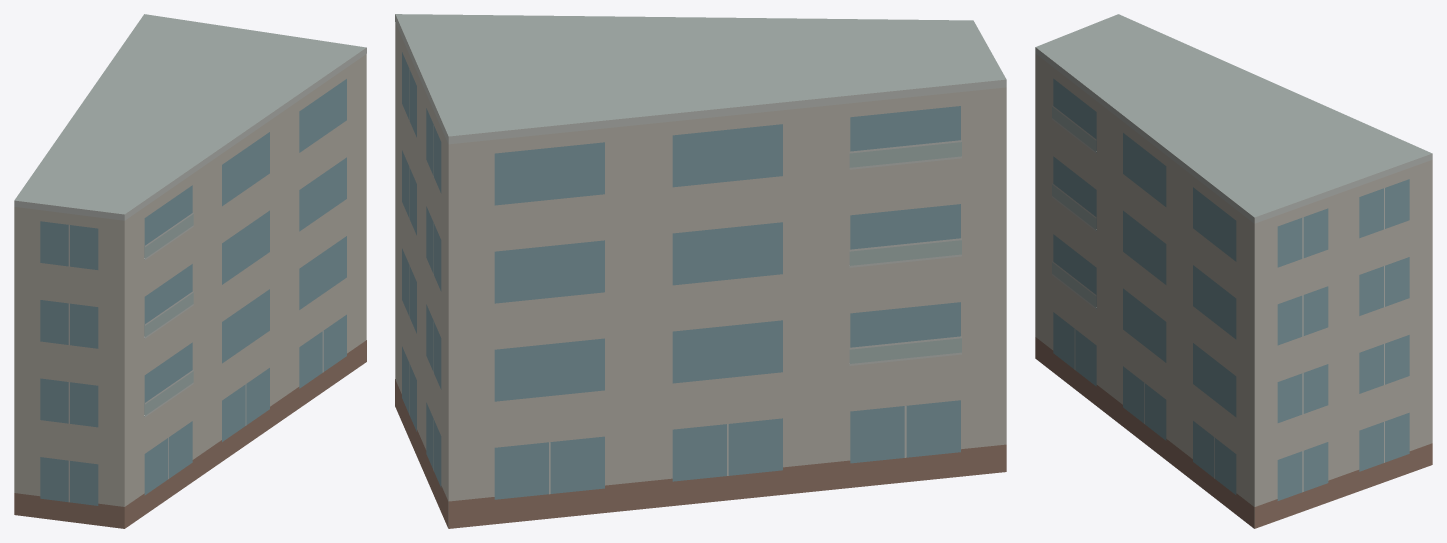
Rendered from residential-461b8c0b-ba62-4fc1-b369-4df7bfdebae0.glb.
The picture shows the model from 3 angles, left to right: view 1: azimuth 30°, elevation 25°; view 2: azimuth 150°, elevation 25°; view 3: azimuth 270°, elevation 25°; orthographic projection. The views are drawn at different scales.
Visible parts, largest first — view 1: residential-461b8c0b-ba62-4fc1-b369-4df7bfdebae0.tmp; view 2: residential-461b8c0b-ba62-4fc1-b369-4df7bfdebae0.tmp; view 3: residential-461b8c0b-ba62-4fc1-b369-4df7bfdebae0.tmp.
Boxes of the visible parts, x1,y1,x2,y2 form: residential-461b8c0b-ba62-4fc1-b369-4df7bfdebae0.tmp: [14, 14, 366, 528]; residential-461b8c0b-ba62-4fc1-b369-4df7bfdebae0.tmp: [395, 14, 1006, 528]; residential-461b8c0b-ba62-4fc1-b369-4df7bfdebae0.tmp: [1035, 14, 1432, 528].
Size of the model in its own units: 17.11 by 12.2 by 14.11.
